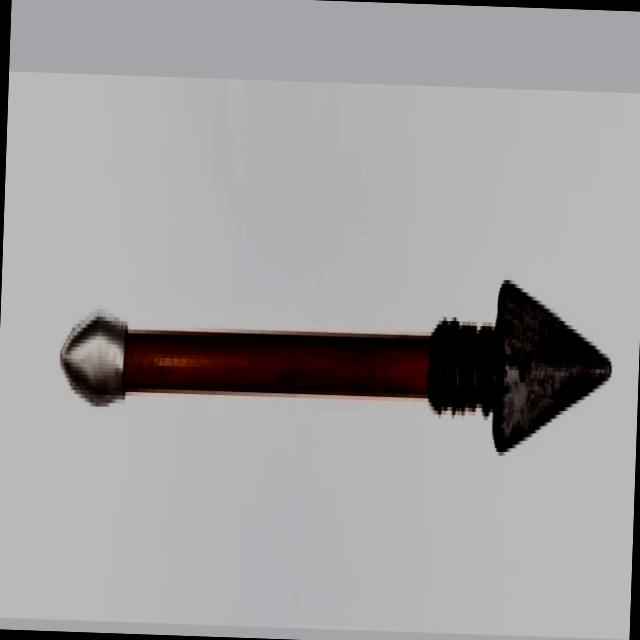spear: (55, 219, 622, 487)
